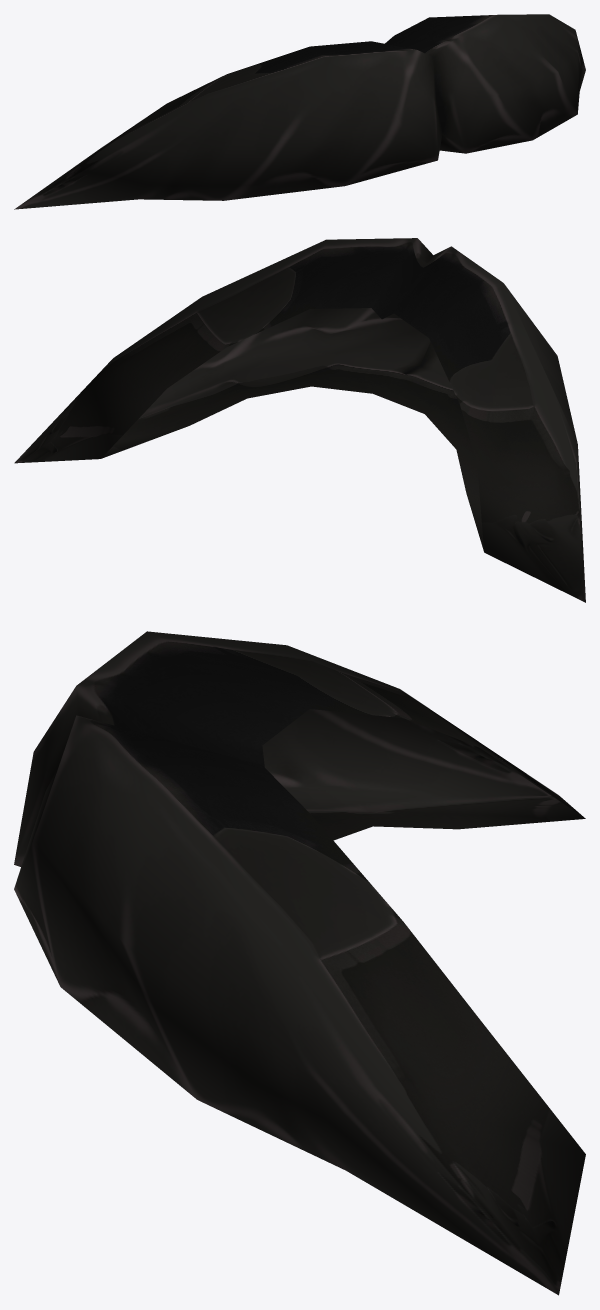
The model's file is beard1.fbx.
3 views of the same model, one above another, from view 1: azimuth 30°, elevation 25°; view 2: azimuth 150°, elevation 25°; view 3: azimuth 270°, elevation 25° (orthographic). The views are drawn at different scales.
Parts seen in each view (by area): view 1: beard1; view 2: beard1; view 3: beard1.
Boxes of the visible parts, left/top/right/bottom form: beard1: left=14, top=14, right=585, bottom=209; beard1: left=14, top=238, right=585, bottom=602; beard1: left=14, top=631, right=585, bottom=1295.
Size of the model in its own units: 6.03 by 1.94 by 2.92.
